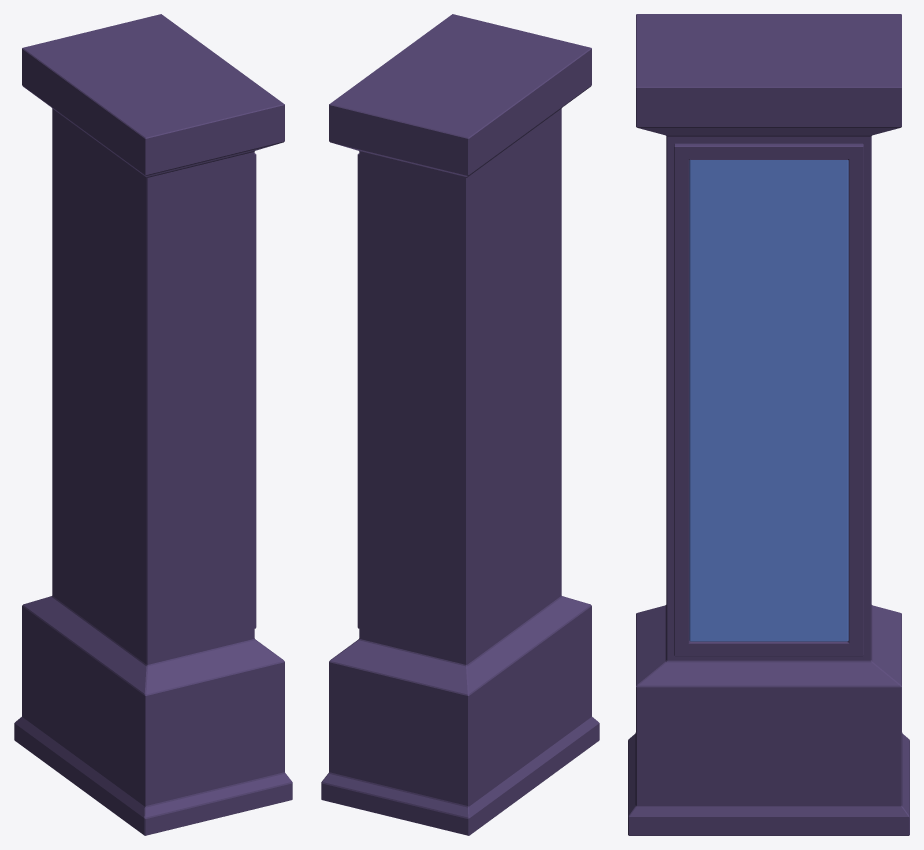
Rendered from Pendulum Clock.fbx.
3 renders of one model, left to right at view 1: azimuth 30°, elevation 25°; view 2: azimuth 150°, elevation 25°; view 3: azimuth 270°, elevation 25°, orthographic. The views are drawn at different scales.
Parts seen in each view (by area): view 1: Pendulum Clock; view 2: Pendulum Clock; view 3: Pendulum Clock.
Boxes of the visible parts, x1,y1,x2,y2 form: Pendulum Clock: [14, 14, 292, 835]; Pendulum Clock: [321, 14, 599, 835]; Pendulum Clock: [628, 14, 909, 835].
Size of the model in its own units: 0.4193 by 1.88 by 0.6417.
